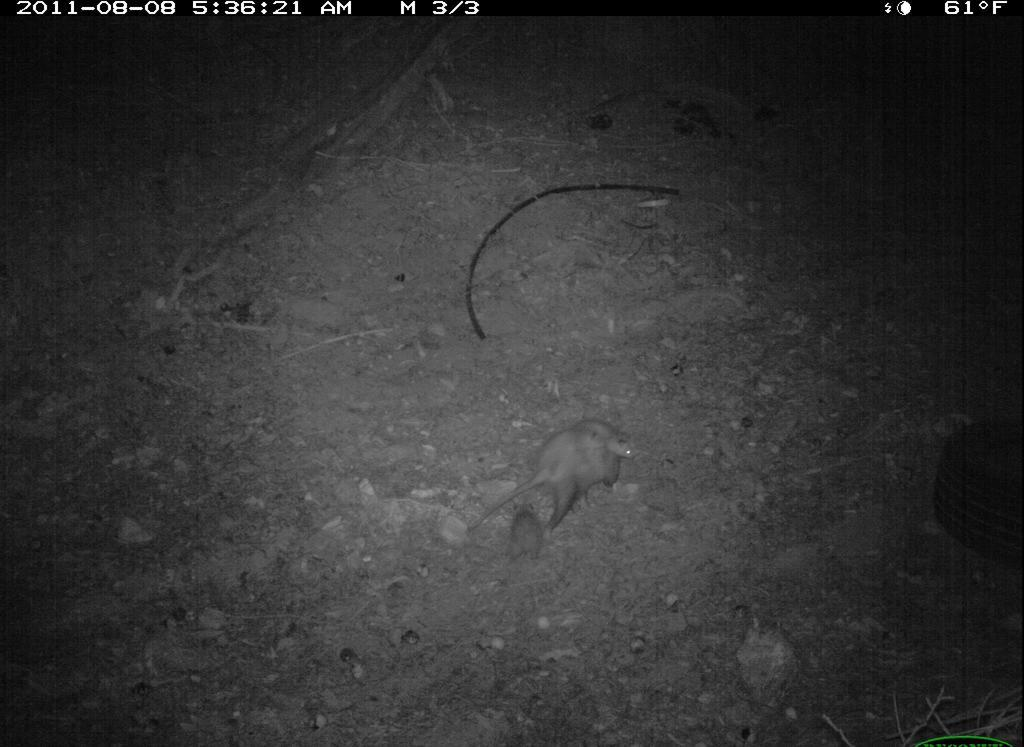opossum: (470, 427, 626, 534), (501, 510, 555, 567), (576, 419, 640, 463), (538, 430, 609, 460)
